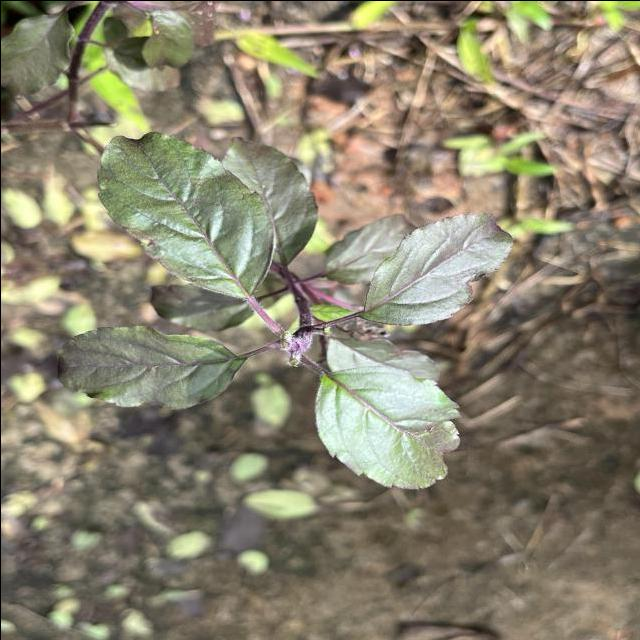Ocimum tenuiflorum: (94, 128, 276, 300), (312, 363, 461, 490), (357, 210, 515, 326), (54, 322, 247, 410)
